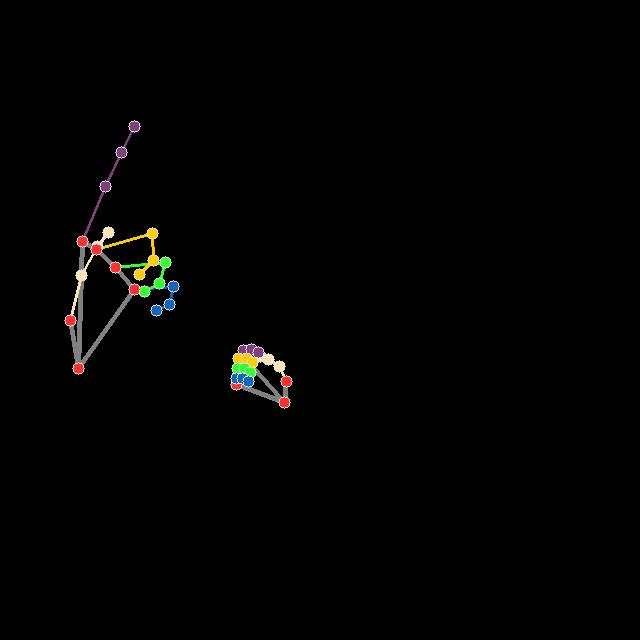gun: (64, 117, 186, 379)
